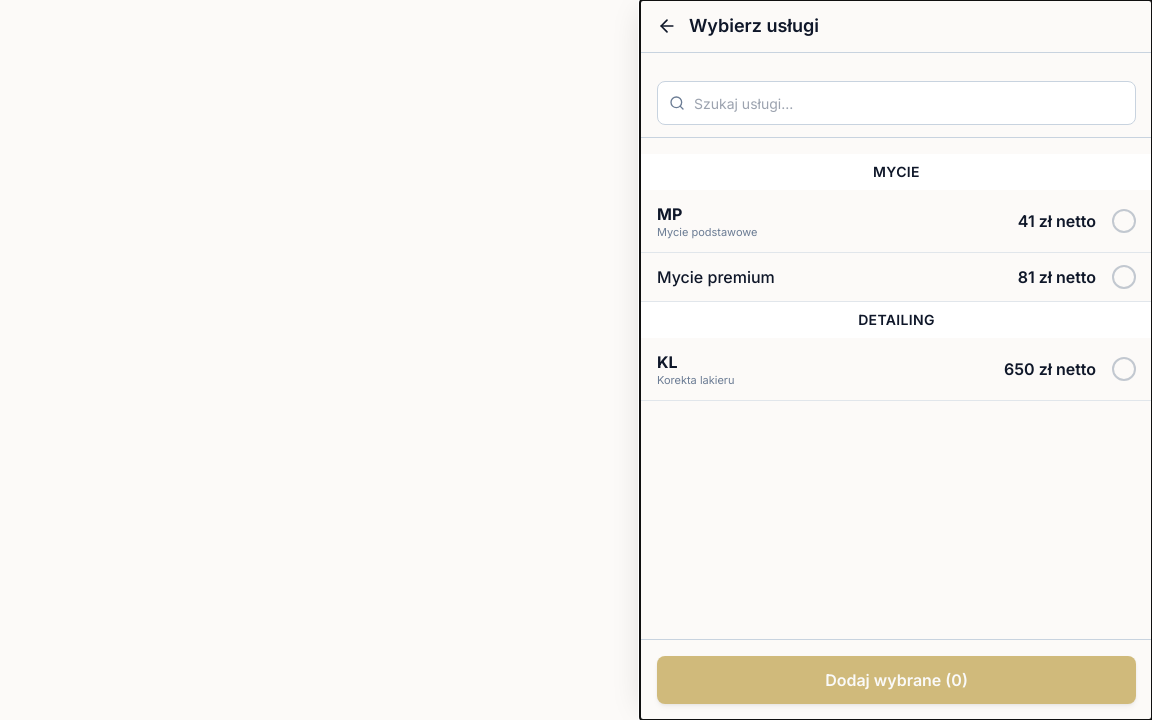
OfferProductPickerDrawer › confirm button calls onConfirm with selected products and closes drawer
Later steps or results of the test are not shown.
# Select two products
Click the button with test id "product-item" that starts with "Mycie podstawowe": point(707, 232) [641,190,1151,253]
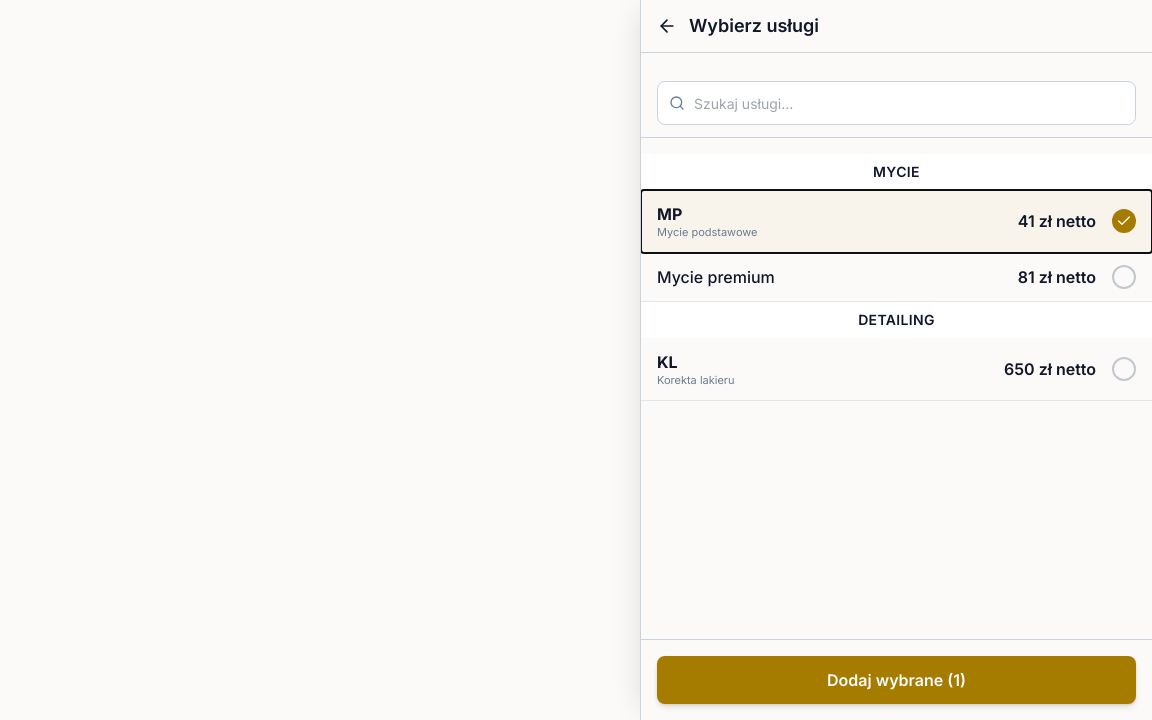
Click the button with test id "product-item" that starts with "Korekta lakieru": point(696, 380) [641,338,1151,401]
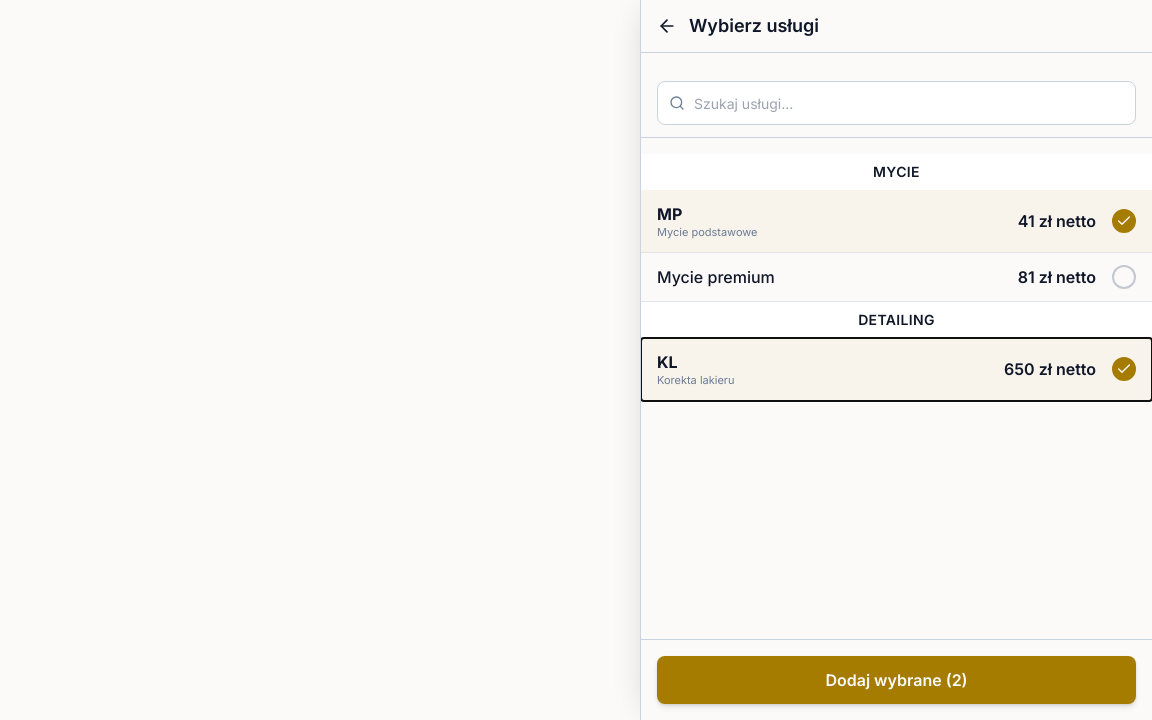
Now the button with test id "confirm-button" reads "Dodaj wybrane (2)", box [657,656,1136,704]
